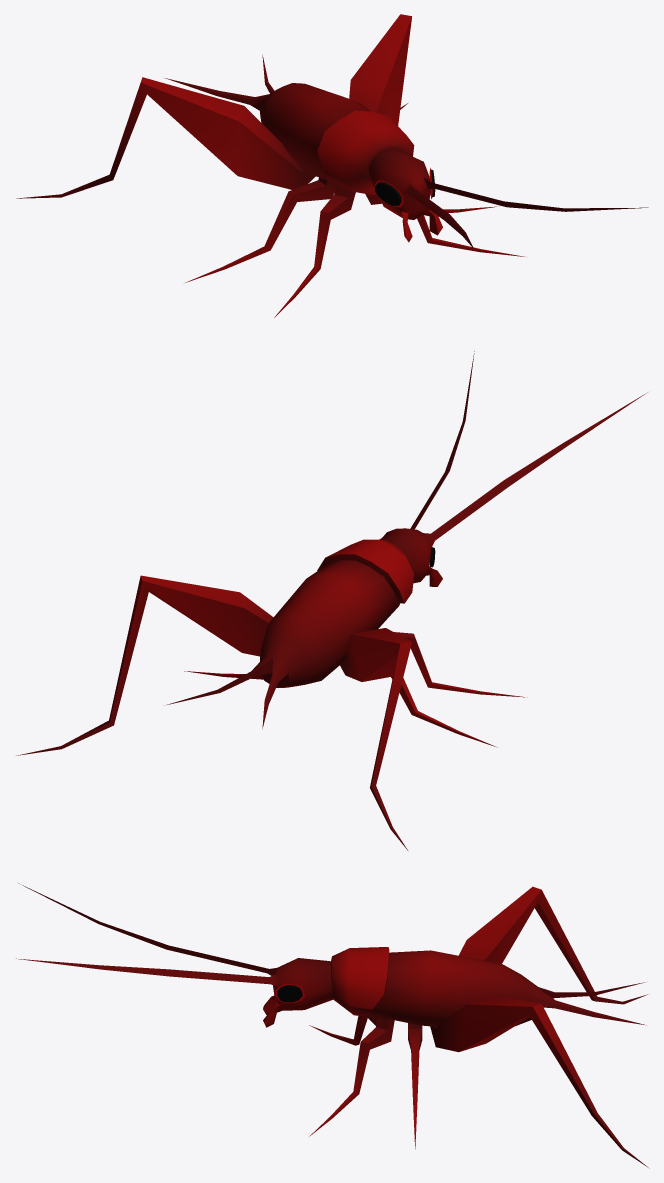
The model's file is Insects_Cricket.fbx.
The picture shows the model from 3 angles, top to bottom: view 1: azimuth 30°, elevation 25°; view 2: azimuth 150°, elevation 25°; view 3: azimuth 270°, elevation 25°; orthographic projection. The views are drawn at different scales.
Parts seen in each view (by area): view 1: base; view 2: base; view 3: base.
Boxes of the visible parts, x1,y1,x2,y2 form: base: (16,14,648,317); base: (16,351,647,850); base: (16,883,649,1168).
Bounding box in the file's own units: 371 × 159 × 569.
